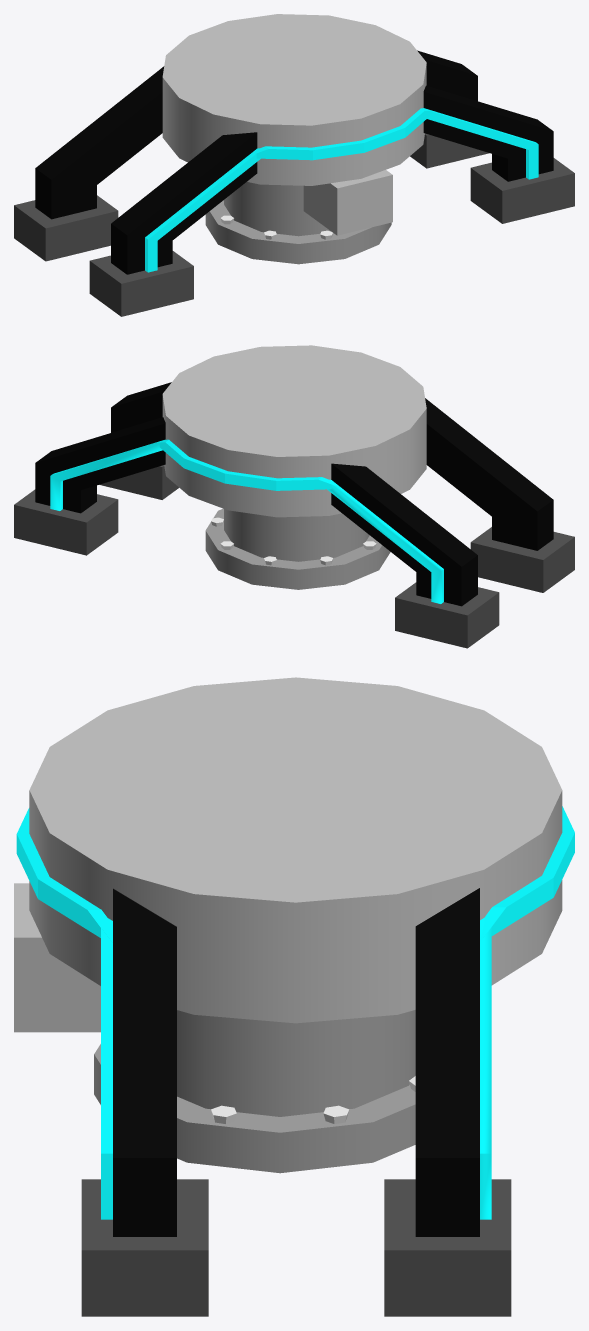
3 views of the same model, one above another, from view 1: azimuth 30°, elevation 25°; view 2: azimuth 150°, elevation 25°; view 3: azimuth 270°, elevation 25° (orthographic). The views are drawn at different scales.
Parts seen in each view (by area): view 1: Cylinder.002, Cylinder.004, Cylinder.005, Cylinder.003, Cylinder.001; view 2: Cylinder.002, Cylinder.004, Cylinder.005, Cylinder.003, Cylinder.001, Cylinder.006; view 3: Cylinder.002, Cylinder.004, Cylinder.003, Cylinder.005, Cylinder.001, Cylinder.006.
Part boxes in pixels (<box>): Cylinder.002: <box>162,14,426,235</box>; Cylinder.004: <box>35,50,553,274</box>; Cylinder.005: <box>14,133,574,316</box>; Cylinder.003: <box>205,182,391,264</box>; Cylinder.001: <box>145,108,538,272</box>; Cylinder.002: <box>162,345,426,517</box>; Cylinder.004: <box>35,382,553,606</box>; Cylinder.005: <box>14,465,574,648</box>; Cylinder.003: <box>205,508,390,589</box>; Cylinder.001: <box>50,439,443,603</box>; Cylinder.006: <box>211,517,376,565</box>; Cylinder.002: <box>14,677,562,1032</box>; Cylinder.004: <box>113,888,479,1236</box>; Cylinder.003: <box>94,1010,415,1173</box>; Cylinder.005: <box>81,1179,511,1316</box>; Cylinder.001: <box>16,806,574,1219</box>; Cylinder.006: <box>211,1076,415,1123</box>.
Bounding box in the file's own units: 3.52 × 1.13 × 1.88.
Materials: 2 (2 with a texture image).
